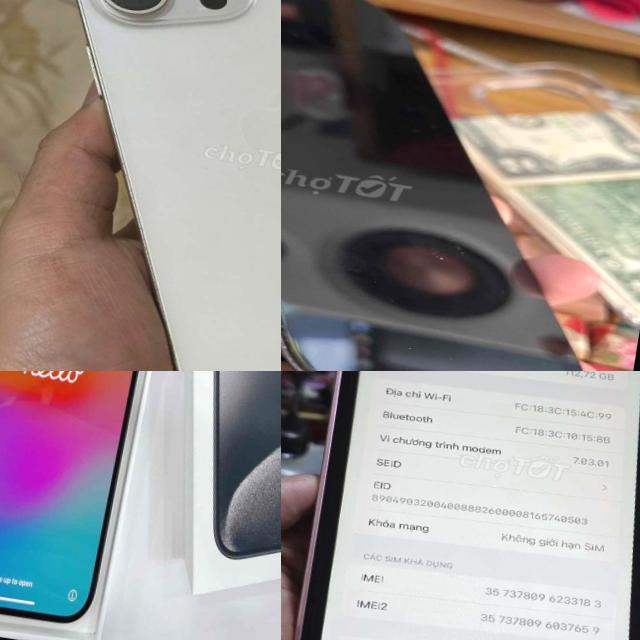gen_14: (281, 0, 640, 371)
gen_15: (0, 0, 281, 371), (0, 371, 186, 640)
gen_x_xs: (295, 371, 640, 640)
